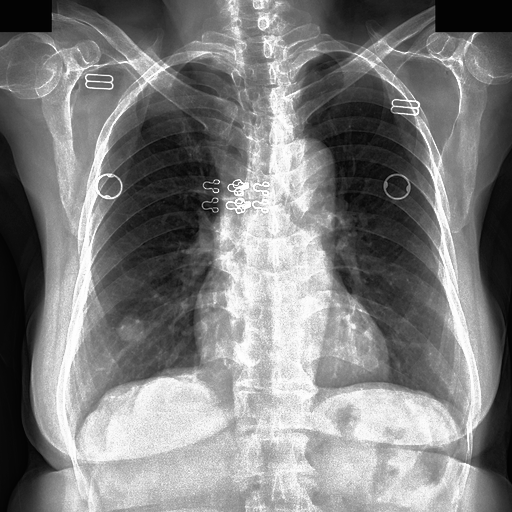Consolidation: (275, 137, 337, 189)
Pleural thickening: (144, 70, 192, 116)
Pulmonary fibrosis: (116, 313, 145, 342)
